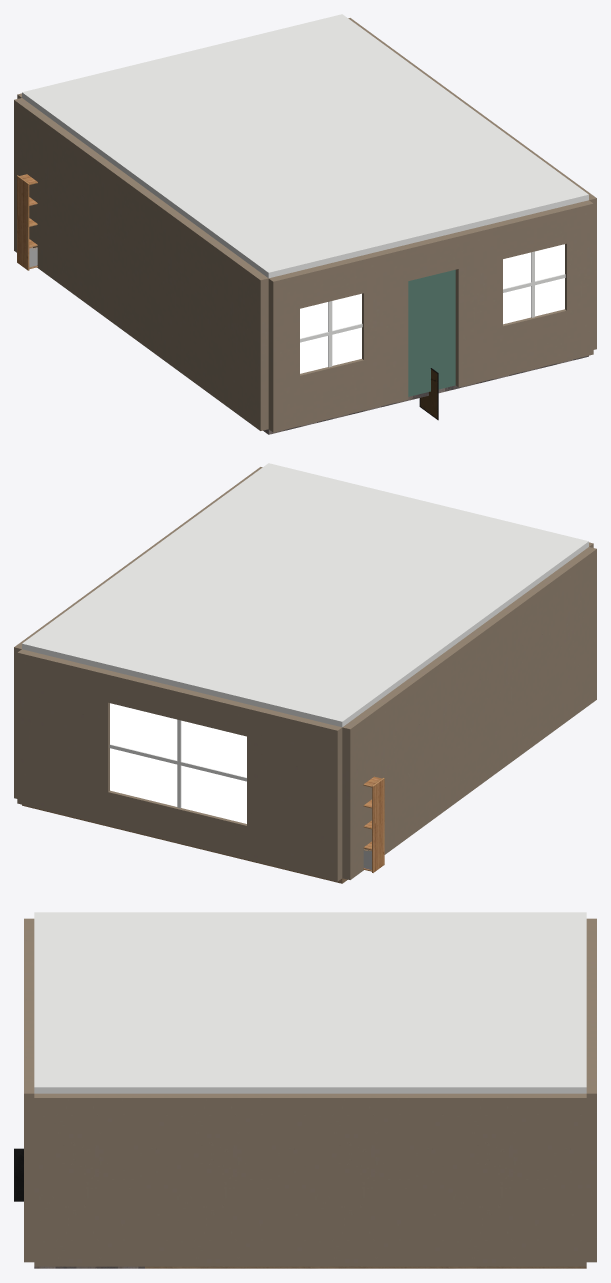
The model's file is interior.glb.
3 views of the same model, one above another, from view 1: azimuth 30°, elevation 25°; view 2: azimuth 150°, elevation 25°; view 3: azimuth 270°, elevation 25° (orthographic). The views are drawn at different scales.
Parts seen in each view (by area): view 1: ceiling, walls, sky, doorpaint, wooden_display_shelves_01, trim, tiles, hanging_picture_frame_01; view 2: ceiling, walls, sky, wooden_display_shelves_01, trim, floor; view 3: walls, ceiling, floor, hanging_picture_frame_01_glass.
Boxes of the visible parts, left/top/right/bottom form: ceiling: left=22, top=14, right=588, bottom=278; walls: left=14, top=18, right=596, bottom=432; sky: left=300, top=244, right=564, bottom=373; doorpaint: left=408, top=269, right=455, bottom=396; wooden_display_shelves_01: left=17, top=174, right=37, bottom=270; trim: left=300, top=251, right=565, bottom=367; tiles: left=263, top=355, right=588, bottom=434; hanging_picture_frame_01: left=419, top=368, right=438, bottom=420; ceiling: left=22, top=463, right=588, bottom=727; walls: left=14, top=467, right=596, bottom=881; sky: left=110, top=703, right=246, bottom=823; wooden_display_shelves_01: left=363, top=776, right=384, bottom=872; trim: left=109, top=719, right=246, bottom=808; floor: left=22, top=804, right=347, bottom=883; walls: left=24, top=918, right=596, bottom=1266; ceiling: left=34, top=912, right=586, bottom=1093; floor: left=145, top=1266, right=586, bottom=1268; hanging_picture_frame_01_glass: left=14, top=1149, right=23, bottom=1200.
Bounding box in the file's own units: 6.49 × 3.22 × 8.45.
34 materials, 22 textured.
